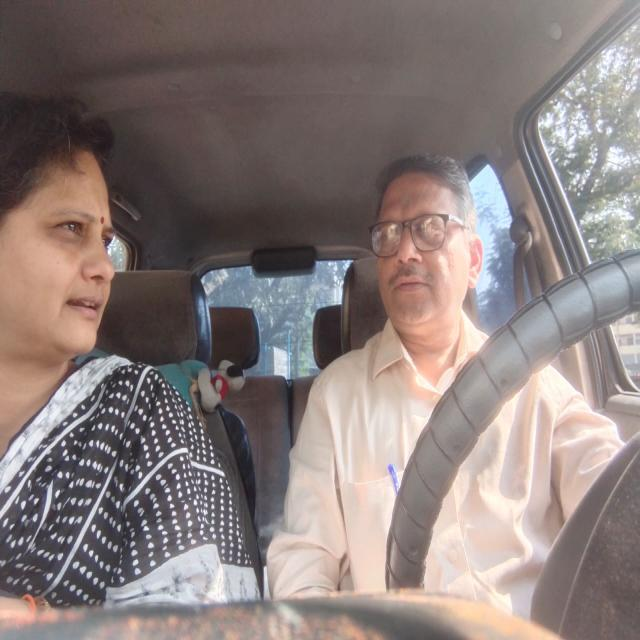person: (0, 86, 118, 360), (362, 154, 483, 339)
